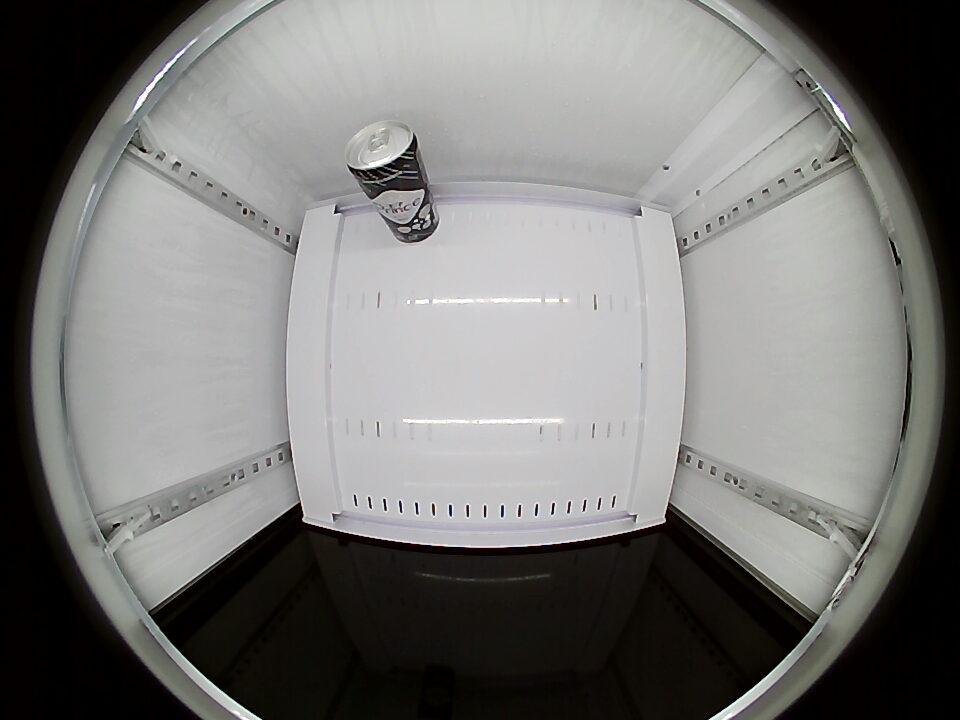qingdaowangzi-1: (345, 121, 421, 189)
